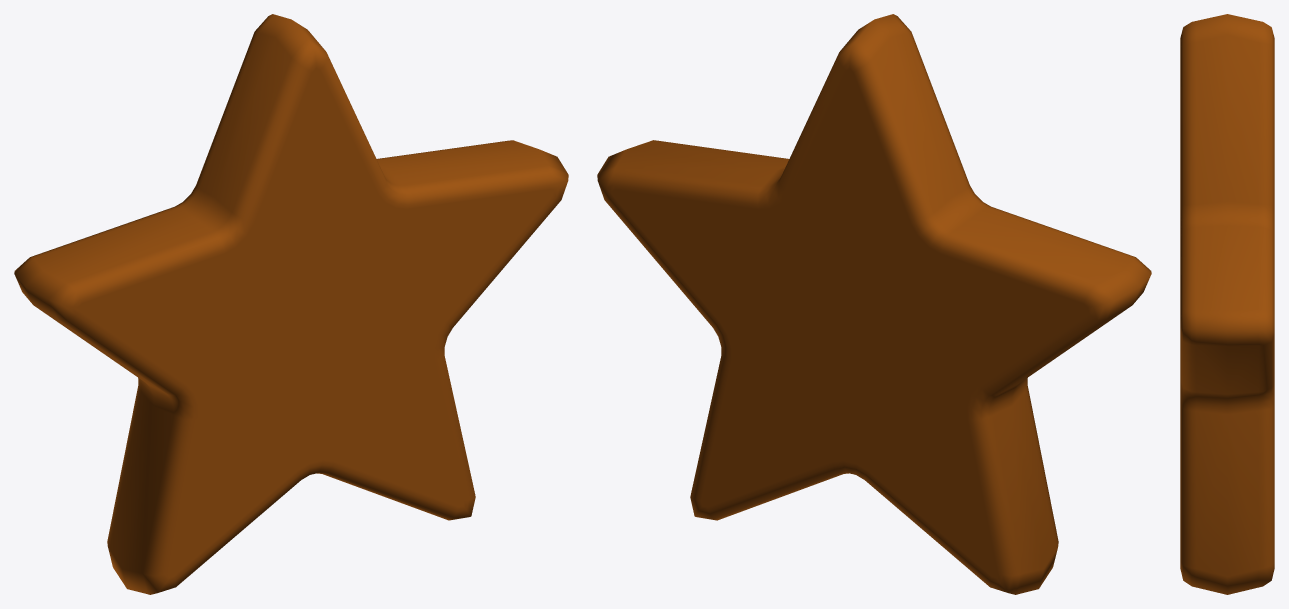
File: Star.fbx
The picture shows the model from 3 angles, left to right: view 1: azimuth 30°, elevation 25°; view 2: azimuth 150°, elevation 25°; view 3: azimuth 270°, elevation 25°; orthographic projection. The views are drawn at different scales.
Parts seen in each view (by area): view 1: Star002; view 2: Star002; view 3: Star002.
Boxes of the visible parts, bbox=[...] form: Star002: bbox=[14, 14, 568, 594]; Star002: bbox=[597, 14, 1151, 594]; Star002: bbox=[1180, 14, 1274, 594].
Bounding box in the file's own units: 101 × 96.32 × 16.28.
